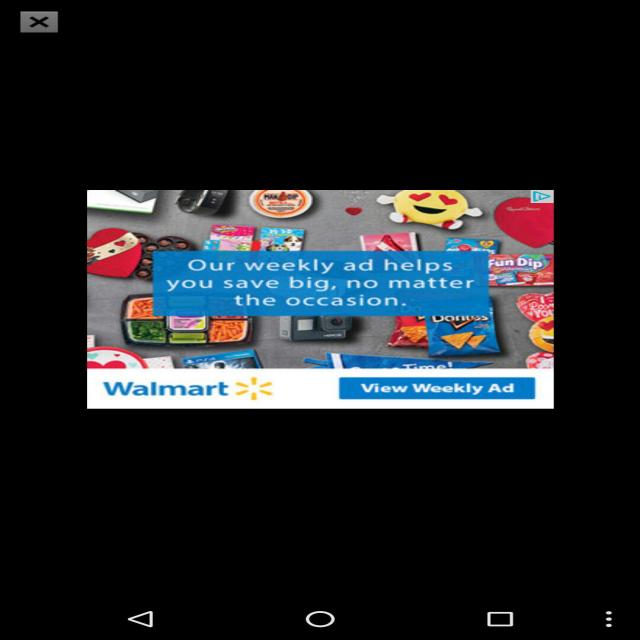button: (327, 365, 541, 402)
image: (97, 191, 535, 361)
text: (158, 256, 493, 314), (86, 373, 293, 402)
